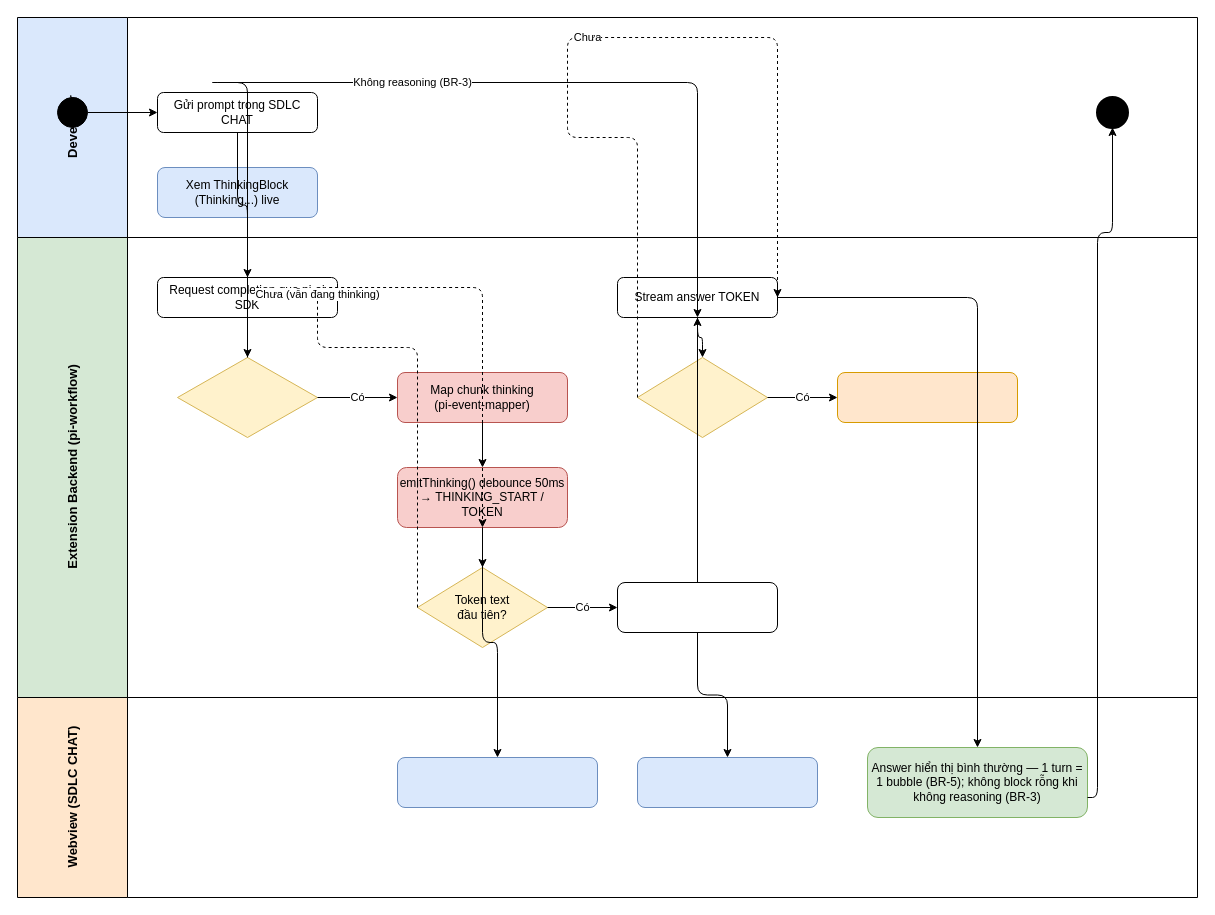
Image size: 1215x915. Some labels were removed from this diagram. The shapes that lost their labels are listed below. From the top down, each one's box as (x1, y1, x2, y2) in pixels, then its label:
(176, 356, 318, 438): Model trả thinking_delta?
(636, 356, 768, 438): Stream complete / error?
(836, 372, 1018, 422): Đảm bảo block đóng (BR-4: không kẹt Thinking...)
(616, 582, 778, 632): Phát THINKING_END
(396, 756, 598, 808): Mở ThinkingBlock — stream reasoning live (BR-1)
(636, 756, 818, 808): Block collapse thành Reasoning (BR-2)
